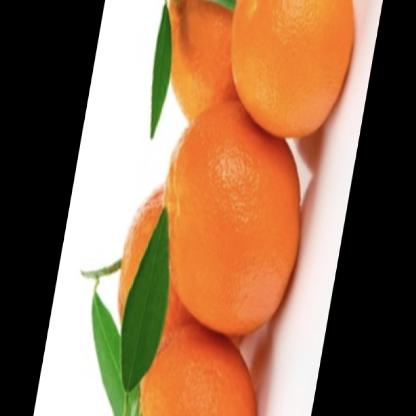fresh: (108, 1, 356, 416)
